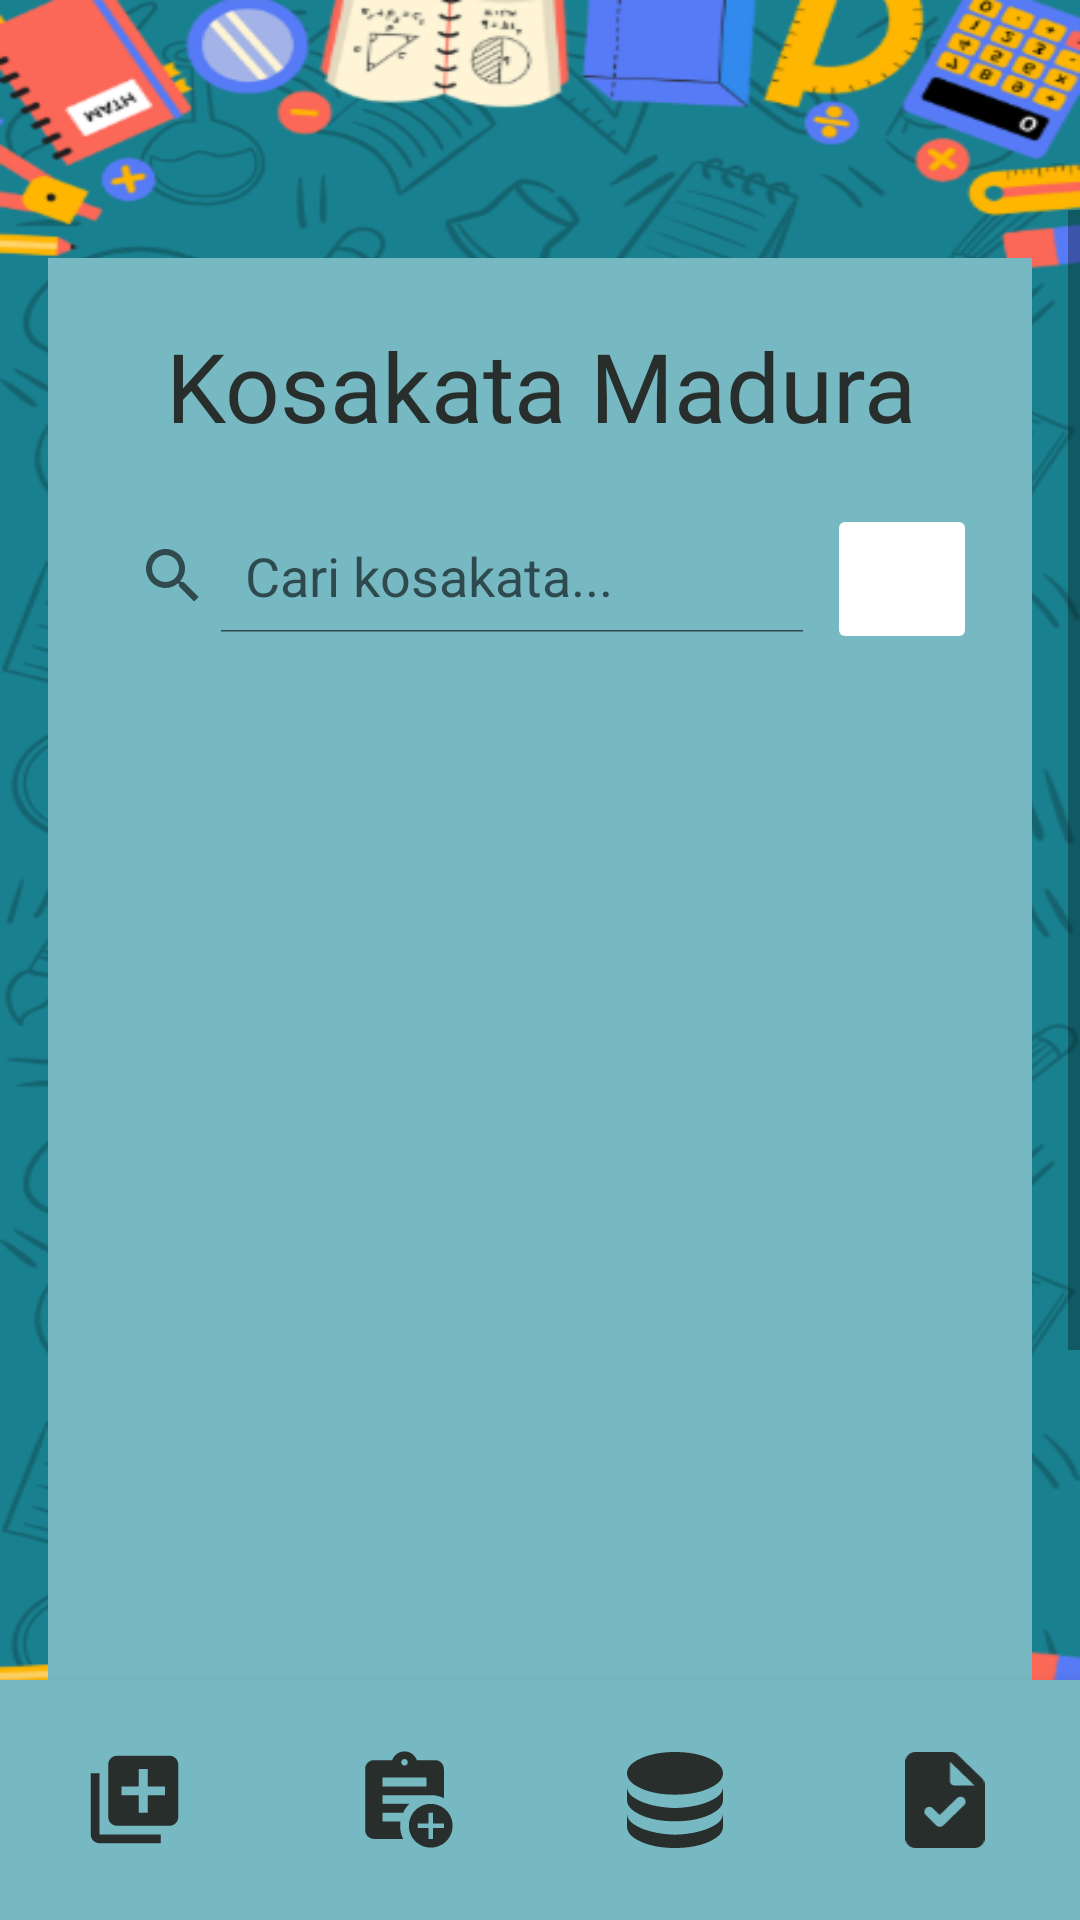

Screen size 1080 × 1920. Icon name, then its center in pixels as (x,y):
inserteval: (409,1799)
insertkosakata: (134,1799)
listevaluasi: (945,1800)
listkosakata: (675,1800)
